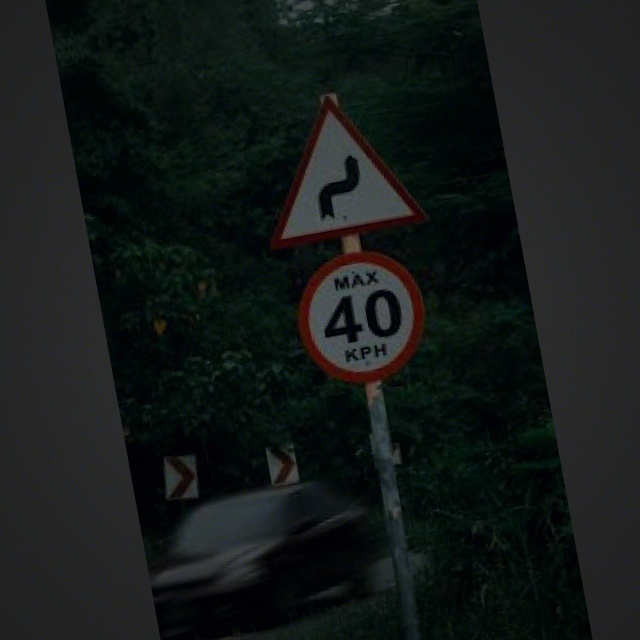Speed_Limit_40: (290, 239, 438, 397)
